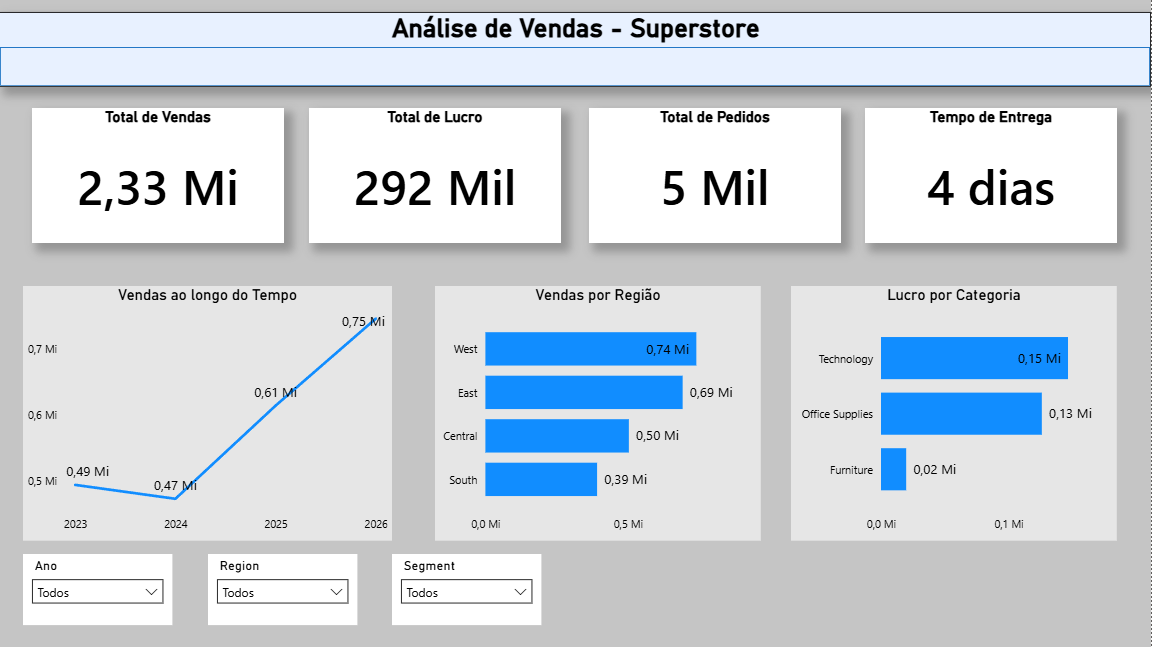

What the dashboard file says about the page in this screenshot:
{"tool":"powerbi","page":{"name":"Página 1","canvas":[1280,720],"ordinal":0},"visuals":[{"type":"cardVisual","title":"Total de Lucro","fields":{"Data":["fato_vendas.Total de Lucro"]},"box":[344.4,121.1,280,150],"z":0},{"type":"cardVisual","title":"Total de Vendas","fields":{"Data":["fato_vendas.Total de Vendas"]},"box":[36.7,121.1,280,150],"z":1000},{"type":"cardVisual","title":"Total de Pedidos","fields":{"Data":["fato_vendas.Total de Ordens"]},"box":[655.6,121.1,280,150],"z":2000},{"type":"cardVisual","title":"Tempo de Entrega","fields":{"Data":["fato_vendas.Tempo Médio de Entrega"]},"box":[962.2,121.1,280,150],"z":3000},{"type":"lineChart","title":"Vendas ao longo do Tempo","fields":{"Category":["dim_data.Ano"],"Y":["fato_vendas.Total de Vendas"]},"box":[26.7,318.9,410,283.3],"z":4000},{"type":"clusteredBarChart","title":" Vendas por Região","fields":{"Category":["dim_localizacao.Region"],"Y":["fato_vendas.Total de Vendas"]},"box":[484.4,318.9,362,283.3],"z":5000},{"type":"clusteredBarChart","title":"Lucro por Categoria","fields":{"Category":["dim_produto.Category"],"Y":["fato_vendas.Total de Lucro"]},"box":[880,318.9,362.2,283.3],"z":6000},{"type":"slicer","fields":{"Values":["dim_data.Ano"]},"box":[26.7,616.7,165.6,78.9],"z":7000},{"type":"slicer","fields":{"Values":["dim_localizacao.Region"]},"box":[232.2,616.7,165.6,78.9],"z":8000},{"type":"slicer","fields":{"Values":["dim_cliente.Segment"]},"box":[436.7,616.7,165.6,78.9],"z":9000},{"type":"shape","title":"Análise de Vendas - Superstore","box":[0,14.4,1280,83.3],"z":10000}]}

Visuals, with their boxes in screenshot pixels (x1, y1, x2, y2), scaled from the page's 1280x720 canvas onto the 1152x647 screenshot:
"Total de Lucro" cardVisual: box=[310, 109, 562, 244]
"Total de Vendas" cardVisual: box=[33, 109, 285, 244]
"Total de Pedidos" cardVisual: box=[590, 109, 842, 244]
"Tempo de Entrega" cardVisual: box=[866, 109, 1118, 244]
"Vendas ao longo do Tempo" lineChart: box=[24, 287, 393, 541]
" Vendas por Região" clusteredBarChart: box=[436, 287, 762, 541]
"Lucro por Categoria" clusteredBarChart: box=[792, 287, 1118, 541]
slicer - dim_data.Ano: box=[24, 554, 173, 625]
slicer - dim_localizacao.Region: box=[209, 554, 358, 625]
slicer - dim_cliente.Segment: box=[393, 554, 542, 625]
"Análise de Vendas - Superstore" shape: box=[0, 13, 1151, 88]
